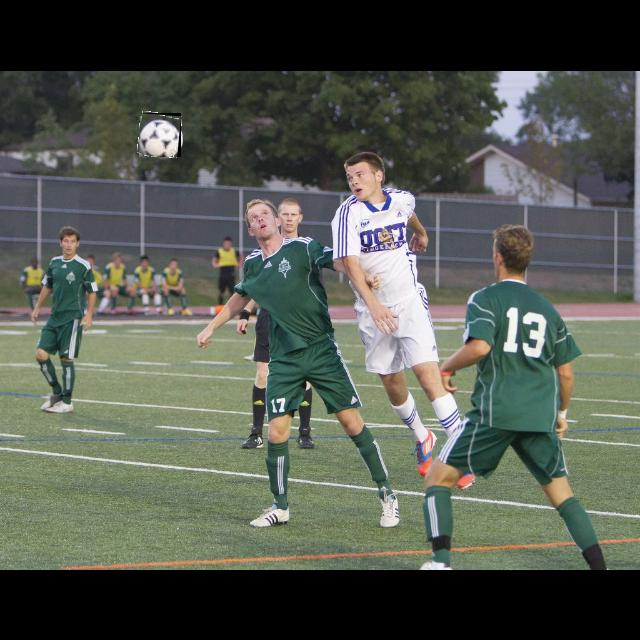Football: (139, 113, 181, 157)
